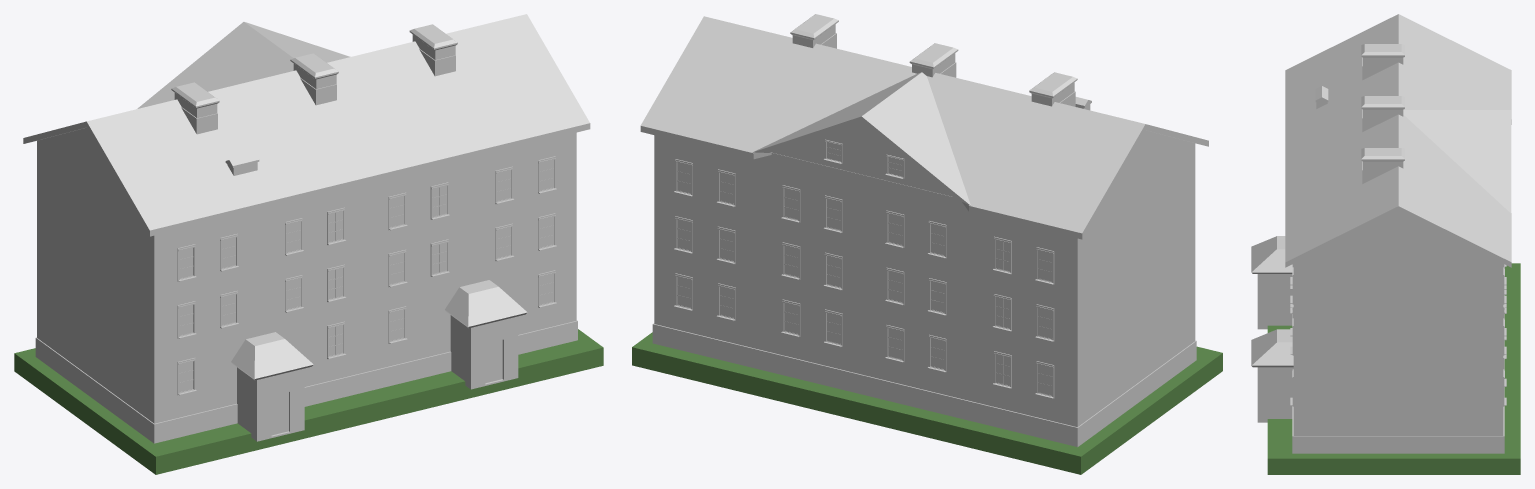
The picture shows the model from 3 angles, left to right: view 1: azimuth 30°, elevation 25°; view 2: azimuth 150°, elevation 25°; view 3: azimuth 270°, elevation 25°; orthographic projection. The views are drawn at different scales.
Visible parts, largest first — view 1: Cube.081; view 2: Cube.081; view 3: Cube.081.
Part boxes in pixels (bbox=[...]): Cube.081: bbox=[14, 14, 603, 474]; Cube.081: bbox=[632, 14, 1222, 474]; Cube.081: bbox=[1251, 14, 1520, 474].
Size of the model in its own units: 2403 by 1589 by 1399.
